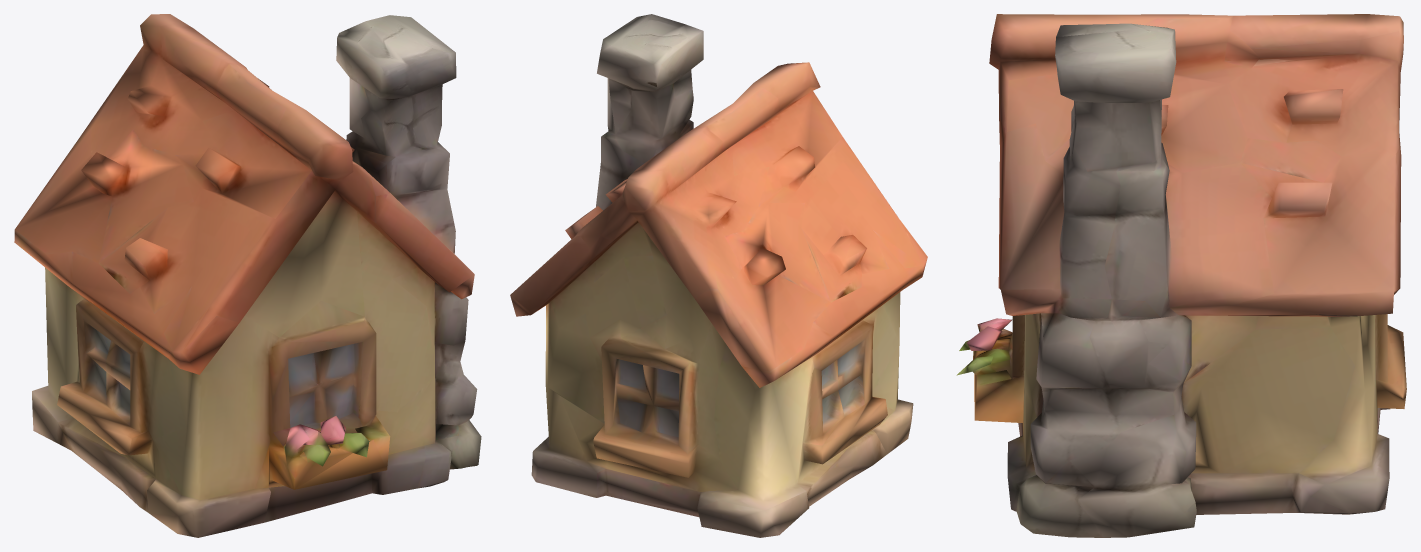
Rendered from cottage.glb.
The picture shows the model from 3 angles, left to right: view 1: azimuth 30°, elevation 25°; view 2: azimuth 150°, elevation 25°; view 3: azimuth 270°, elevation 25°; orthographic projection. The views are drawn at different scales.
Parts seen in each view (by area): view 1: tripo_node_c577aab6-a684-4657-86b8-b210c611826f; view 2: tripo_node_c577aab6-a684-4657-86b8-b210c611826f; view 3: tripo_node_c577aab6-a684-4657-86b8-b210c611826f.
Boxes of the visible parts, bbox=[...] form: tripo_node_c577aab6-a684-4657-86b8-b210c611826f: bbox=[14, 14, 481, 537]; tripo_node_c577aab6-a684-4657-86b8-b210c611826f: bbox=[510, 14, 927, 537]; tripo_node_c577aab6-a684-4657-86b8-b210c611826f: bbox=[956, 14, 1406, 537].
Bounding box in the file's own units: 0.7881 × 0.9801 × 0.8442.
1 material, 1 textured.
